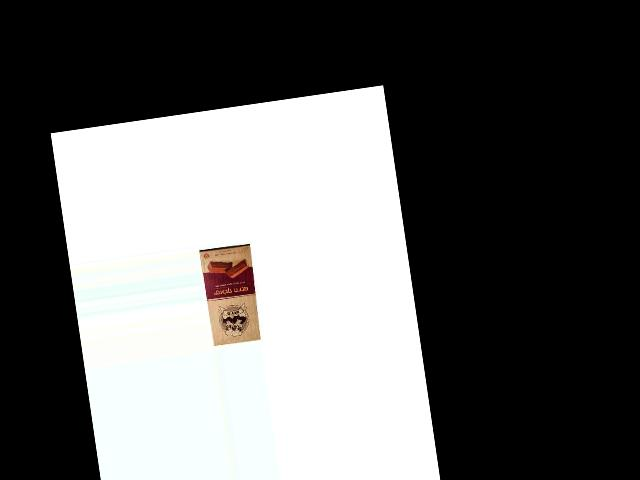chocolate: (200, 242, 265, 346)
